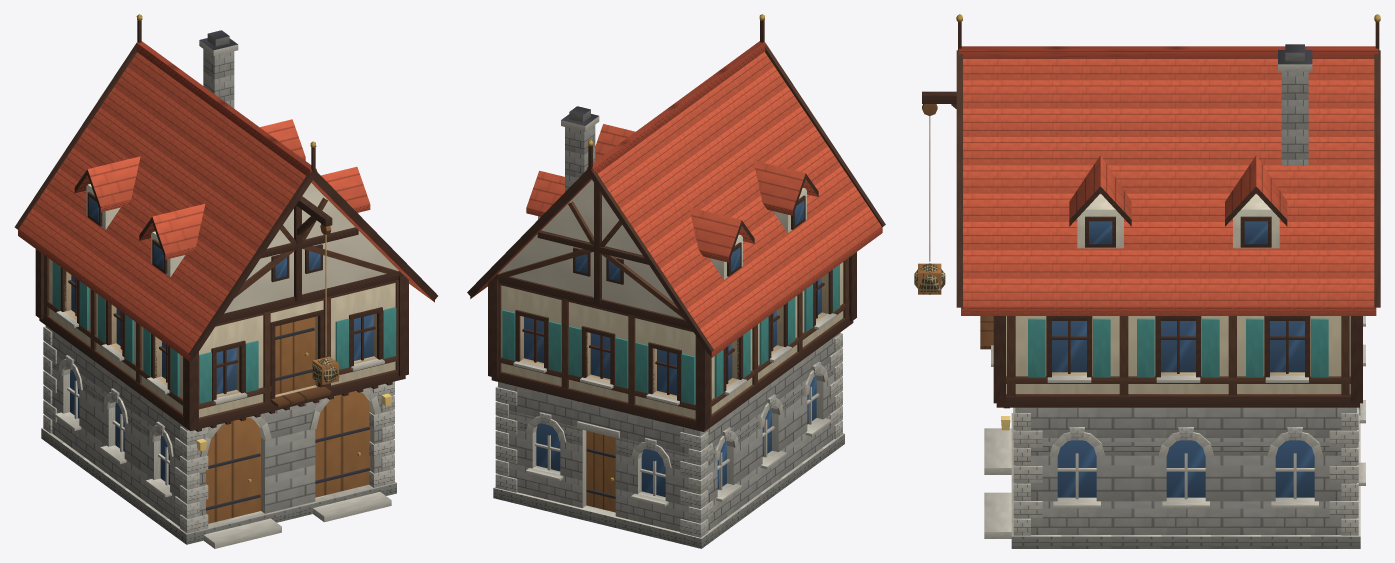
File: bld_warehouse_01.glb
3 renders of one model, left to right at view 1: azimuth 30°, elevation 25°; view 2: azimuth 150°, elevation 25°; view 3: azimuth 270°, elevation 25°, orthographic. The views are drawn at different scales.
Visible parts, largest first — view 1: bld_warehouse_01; view 2: bld_warehouse_01; view 3: bld_warehouse_01.
Boxes of the visible parts, x1,y1,x2,y2 form: bld_warehouse_01: (14, 14, 437, 548); bld_warehouse_01: (467, 14, 885, 548); bld_warehouse_01: (914, 14, 1380, 548).
Size of the model in its own units: 8.83 by 13.42 by 11.99.
1 material, 1 textured.
